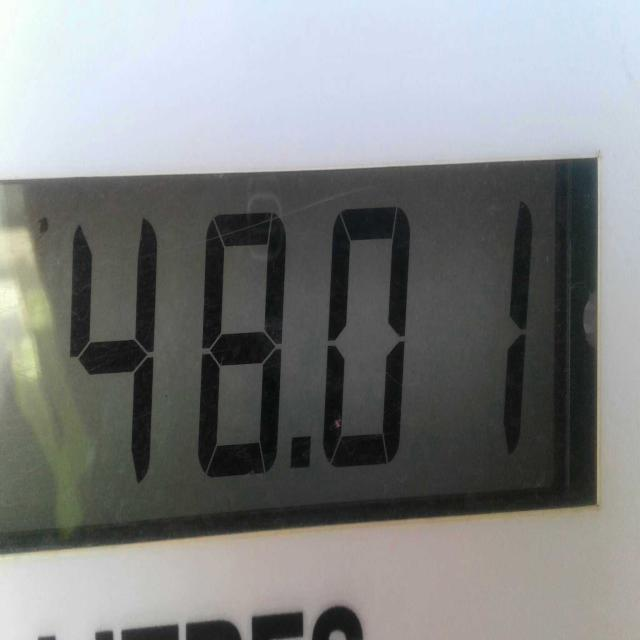.: (278, 405, 321, 489)
0: (315, 186, 409, 497)
1: (462, 177, 543, 483)
4: (42, 198, 182, 528)
8: (189, 204, 289, 512)
